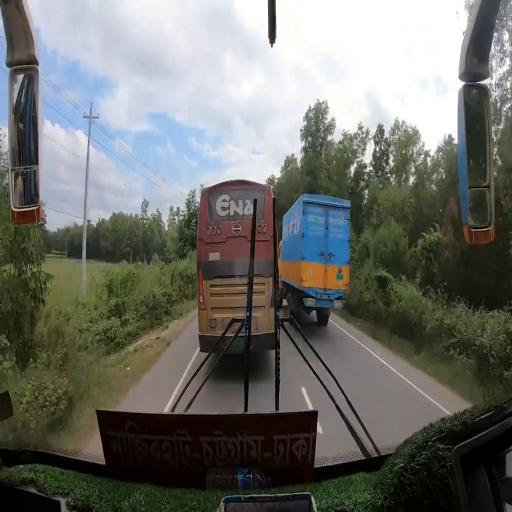bus: (198, 180, 278, 351)
pickup: (279, 194, 352, 326)
